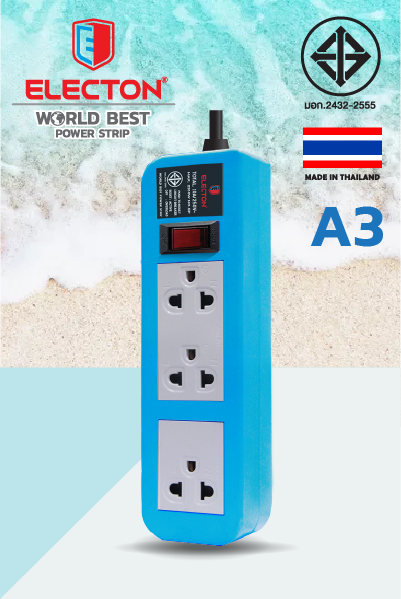Three_eye_plug: (132, 139, 278, 552)
